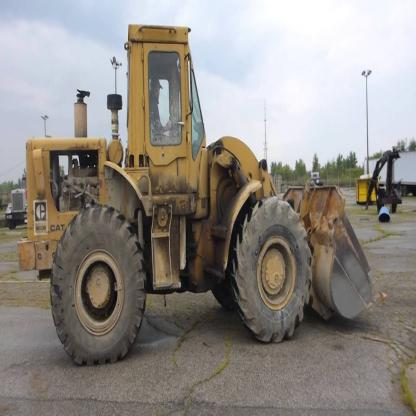bull_dozer/loader/grader: (17, 13, 394, 369)
